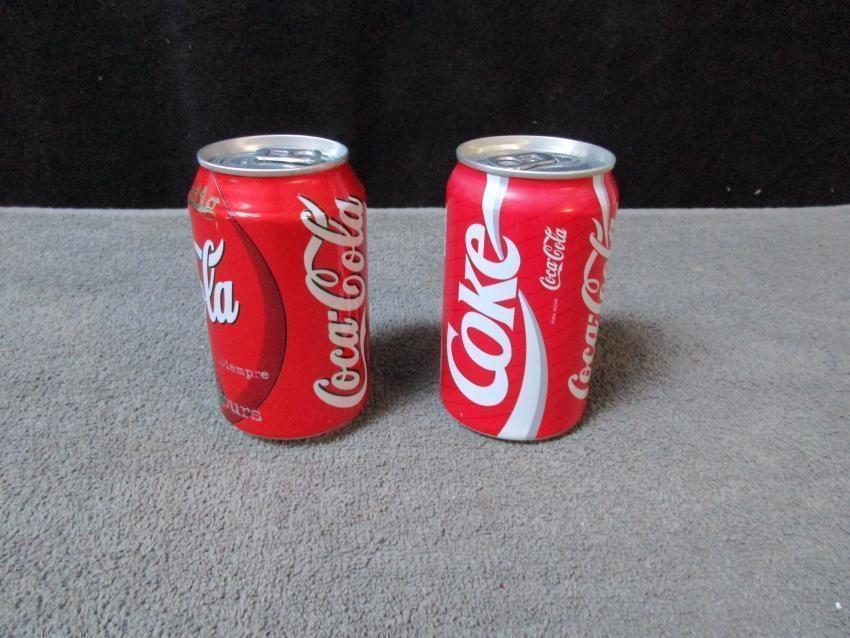tin can: (187, 131, 376, 443), (436, 133, 621, 443)
